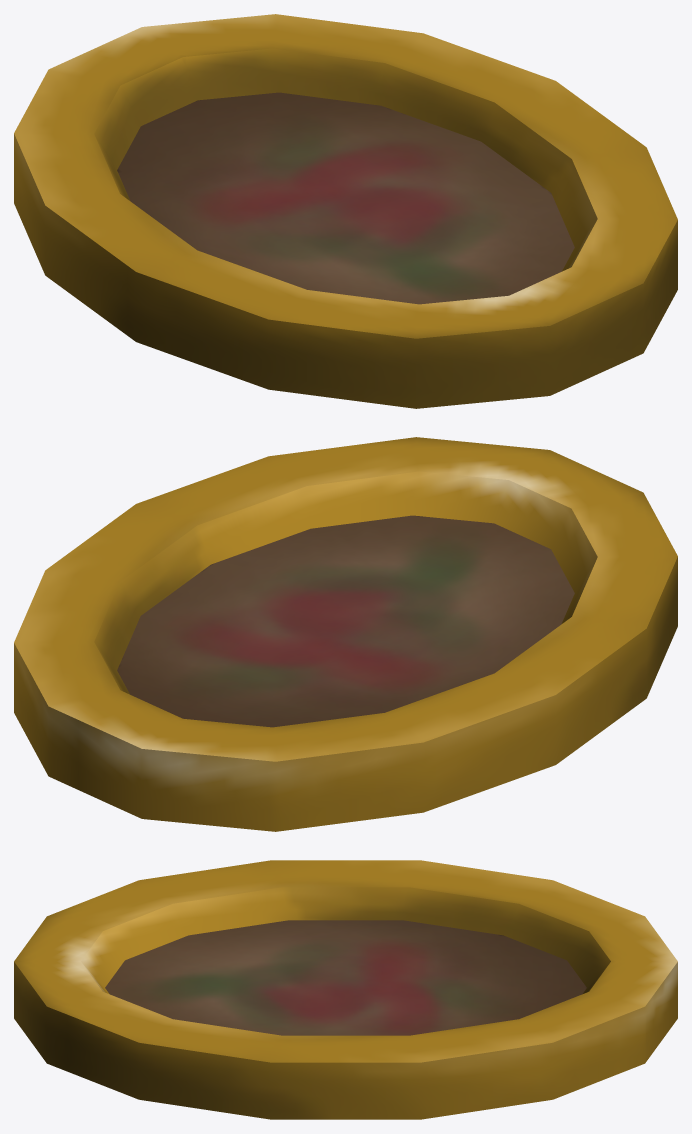
File: props_frame_oval.fbx
3 renders of one model, top to bottom at view 1: azimuth 30°, elevation 25°; view 2: azimuth 150°, elevation 25°; view 3: azimuth 270°, elevation 25°, orthographic. The views are drawn at different scales.
Parts seen in each view (by area): view 1: frame_oval; view 2: frame_oval; view 3: frame_oval.
Part boxes in pixels (x1=…): frame_oval: x1=14, y1=14, x2=677, y2=408; frame_oval: x1=14, y1=437, x2=677, y2=831; frame_oval: x1=14, y1=860, x2=677, y2=1119.
Size of the model in its own units: 0.5266 by 0.0691 by 0.7292.
Materials: 1 (1 with a texture image).
